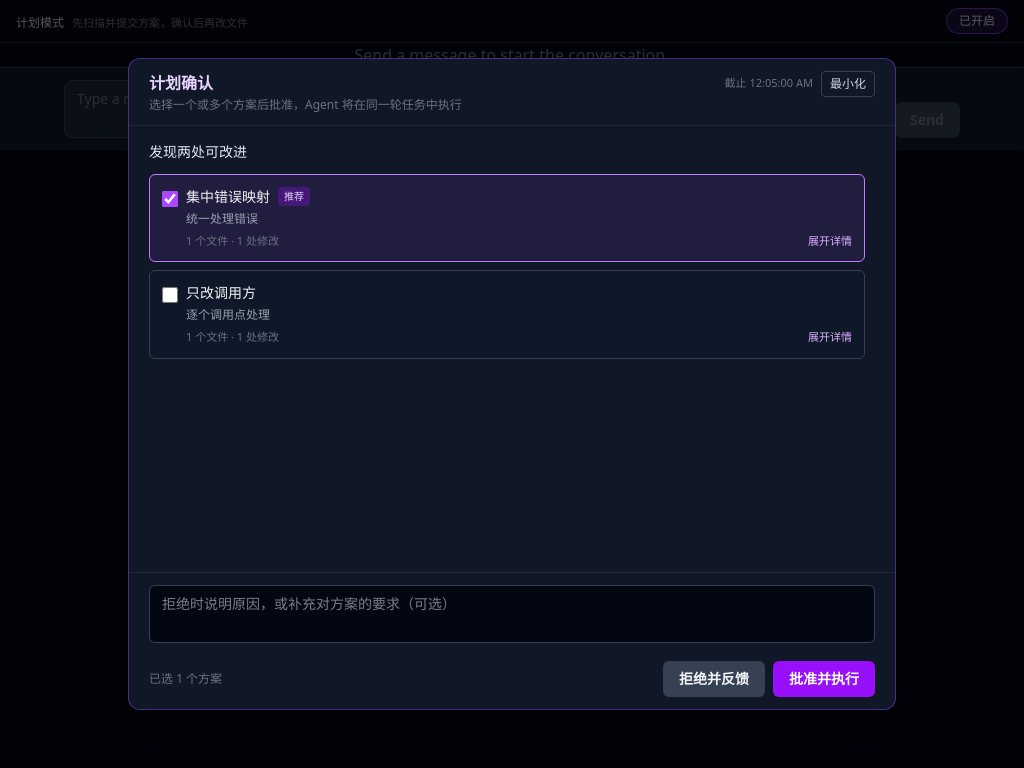
Test case: ChatArea › 计划审批：默认选推荐方案，批准后发送选择并移除卡片
The image size is (1024, 768).
expect the text "Send a message to start the conversation." is shown: met, box [354, 43, 670, 67]
expect the heading "计划确认" is shown: met, box [149, 72, 213, 94]
Click the button "批准并执行". click: (824, 679)
box: [773, 661, 875, 697]
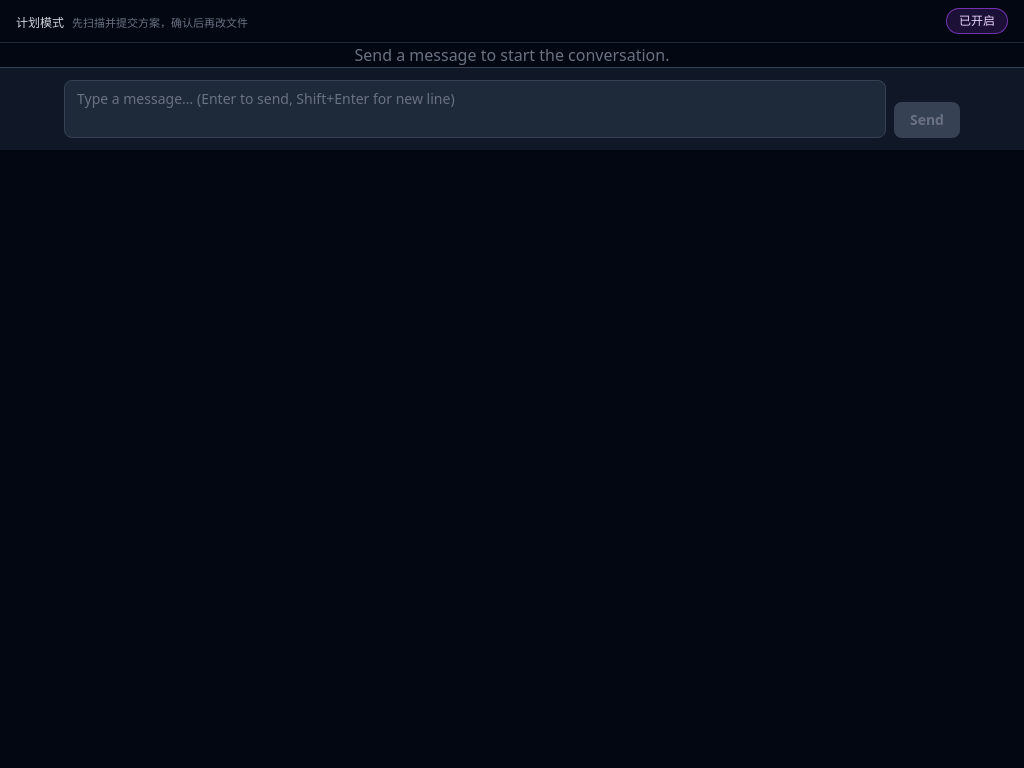
expect the heading "计划确认" is gone: met
